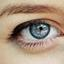eye: (30, 23, 51, 40)
